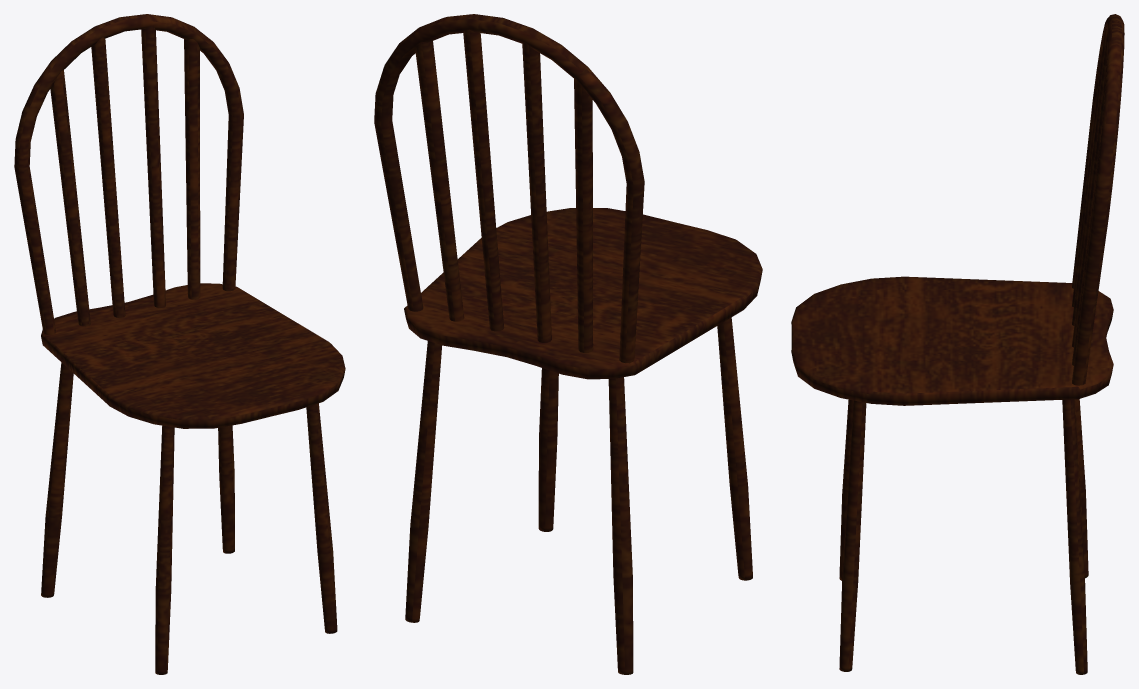
File: chair_bistro.glb
3 renders of one model, left to right at view 1: azimuth 30°, elevation 25°; view 2: azimuth 150°, elevation 25°; view 3: azimuth 270°, elevation 25°, orthographic. The views are drawn at different scales.
Parts seen in each view (by area): view 1: chair_1; view 2: chair_1; view 3: chair_1.
Part boxes in pixels (<box>): chair_1: <box>14,14,345,674</box>; chair_1: <box>374,14,762,674</box>; chair_1: <box>791,14,1124,674</box>.
Bounding box in the file's own units: 0.4559 × 1.04 × 0.5274.
1 material, 1 textured.
